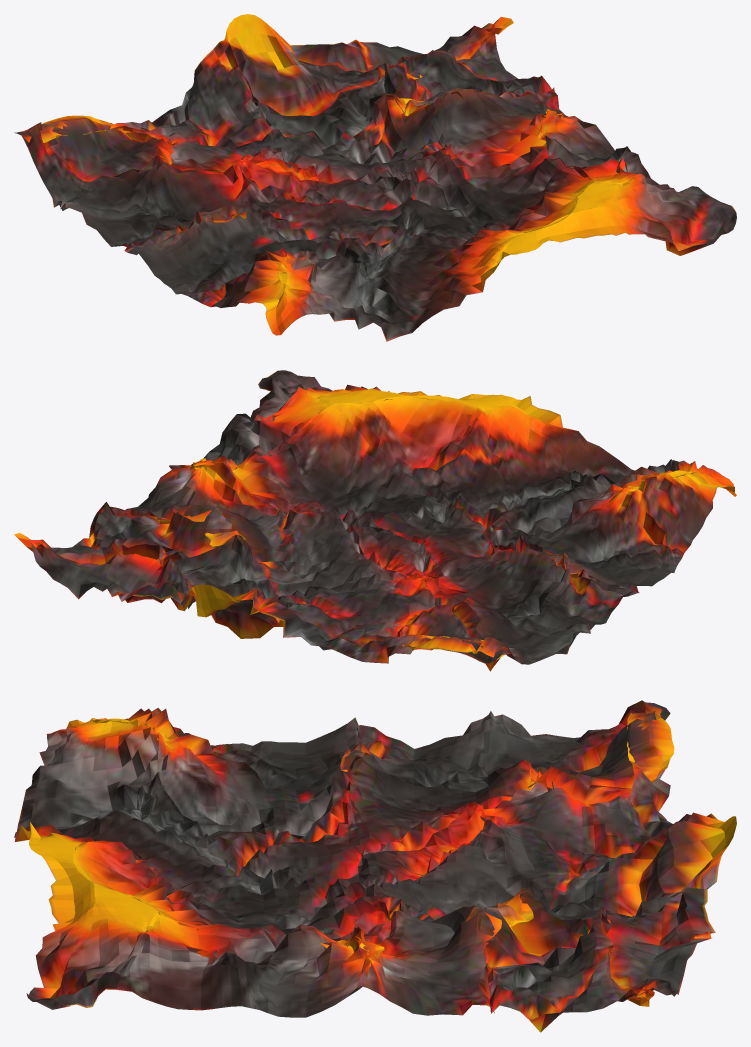
The model's file is ognistegory.fbx.
3 views of the same model, one above another, from view 1: azimuth 30°, elevation 25°; view 2: azimuth 150°, elevation 25°; view 3: azimuth 270°, elevation 25° (orthographic). The views are drawn at different scales.
Parts seen in each view (by area): view 1: Plane; view 2: Plane; view 3: Plane.
Boxes of the visible parts, x1,y1,x2,y2 form: Plane: (14, 14, 736, 341); Plane: (14, 370, 736, 671); Plane: (14, 700, 736, 1032).
Size of the model in its own units: 1729 by 315 by 1735.
